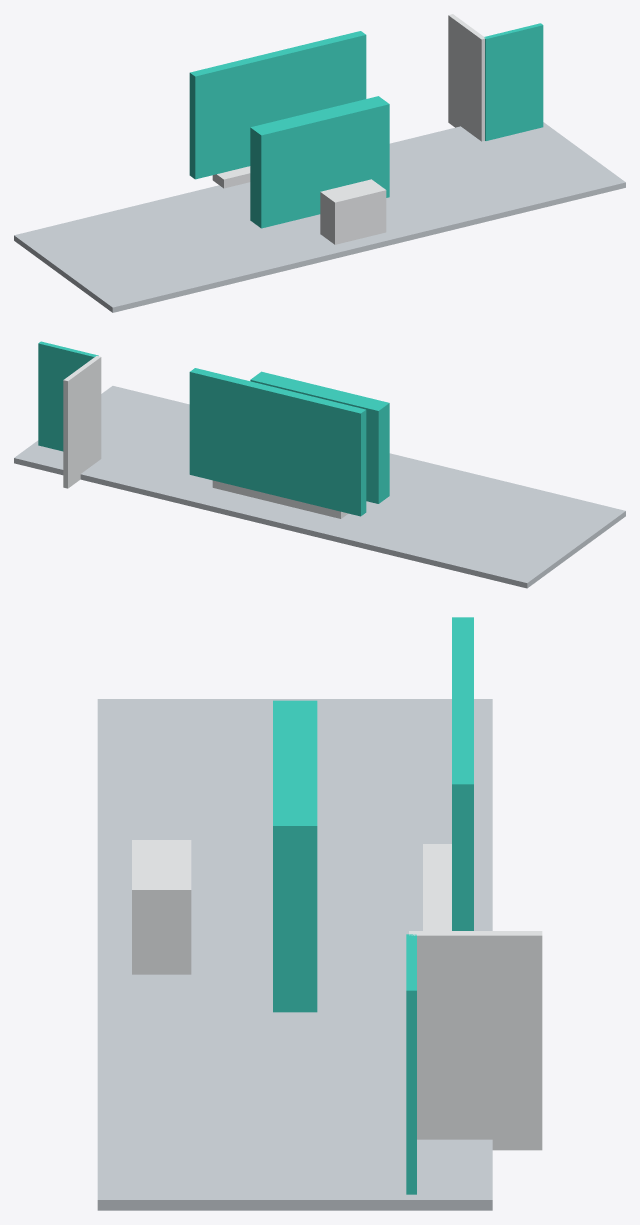
The picture shows the model from 3 angles, top to bottom: view 1: azimuth 30°, elevation 25°; view 2: azimuth 150°, elevation 25°; view 3: azimuth 270°, elevation 25°; orthographic projection. The views are drawn at different scales.
Visible parts, largest first — view 1: Exhibition Booth Concept; view 2: Exhibition Booth Concept; view 3: Exhibition Booth Concept.
Boxes of the visible parts, <box> form: Exhibition Booth Concept: <box>14,14,625,312</box>; Exhibition Booth Concept: <box>14,341,625,588</box>; Exhibition Booth Concept: <box>97,617,542,1210</box>.
Size of the model in its own units: 12 by 2.9 by 4.51.
